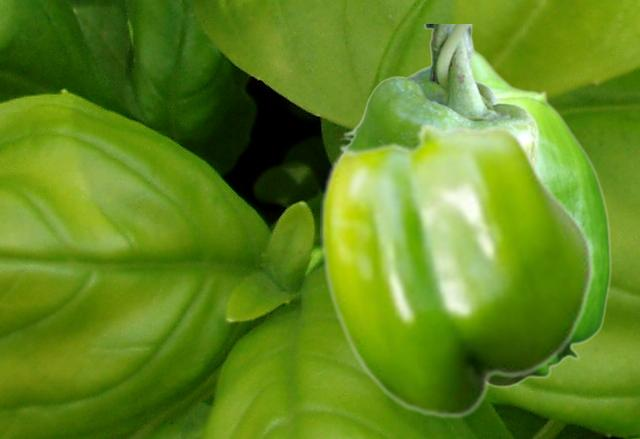bell_pepper: (320, 122, 593, 418), (472, 49, 611, 387), (338, 24, 540, 165)
